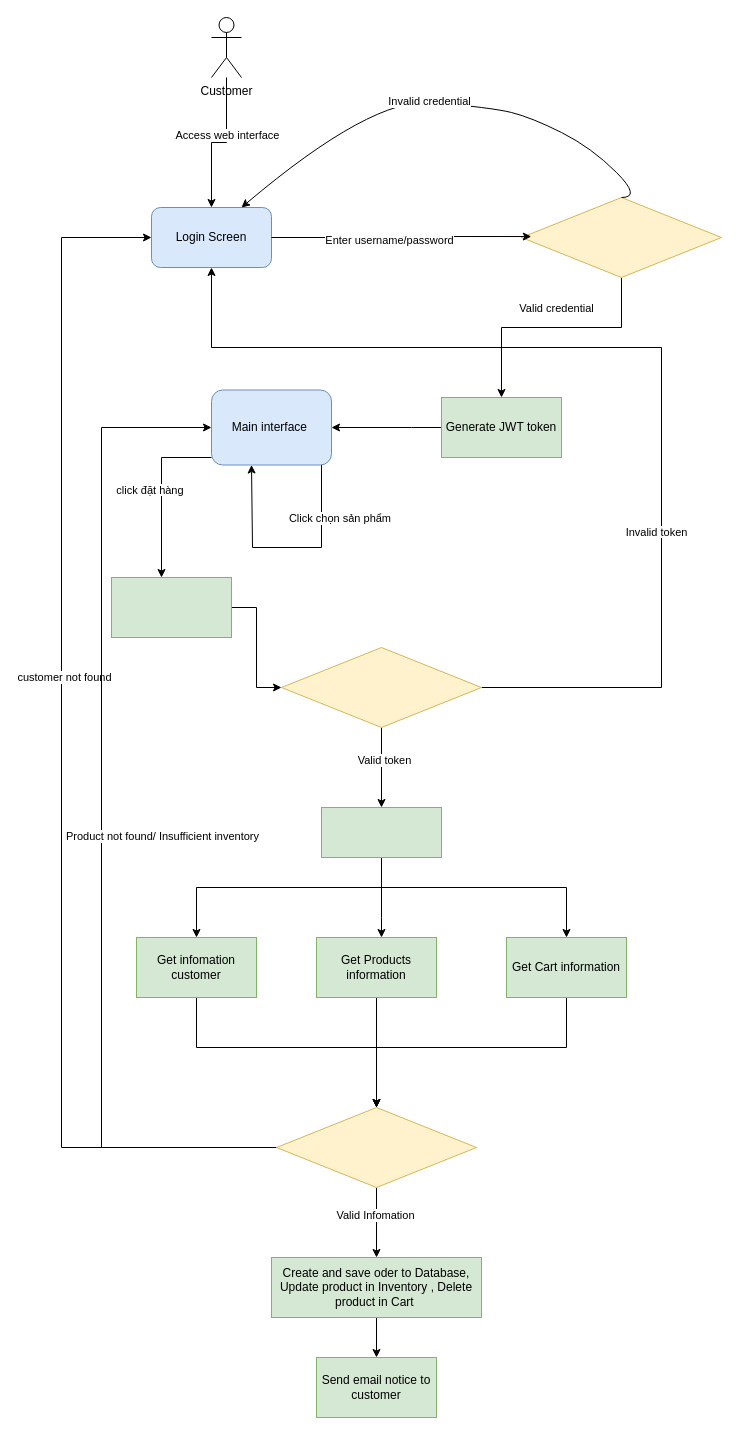
The diagram is 739 pixels wide and 1435 high, and some of its shapes have lost their labels. Each missing label, with the centre of its shape:
Authentication Service: the point at 621,237
Qyery mySQL Database: the point at 381,832
Send HTTPrequest with JWT token: the point at 171,607
Validate Infomation: the point at 376,1147
Validate JWT token: the point at 381,687
